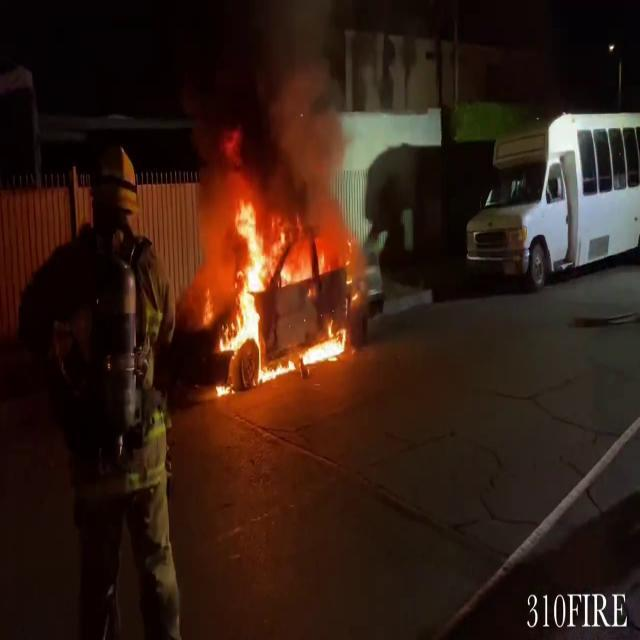Fire: (211, 200, 353, 390)
Smoke: (178, 0, 362, 206)
